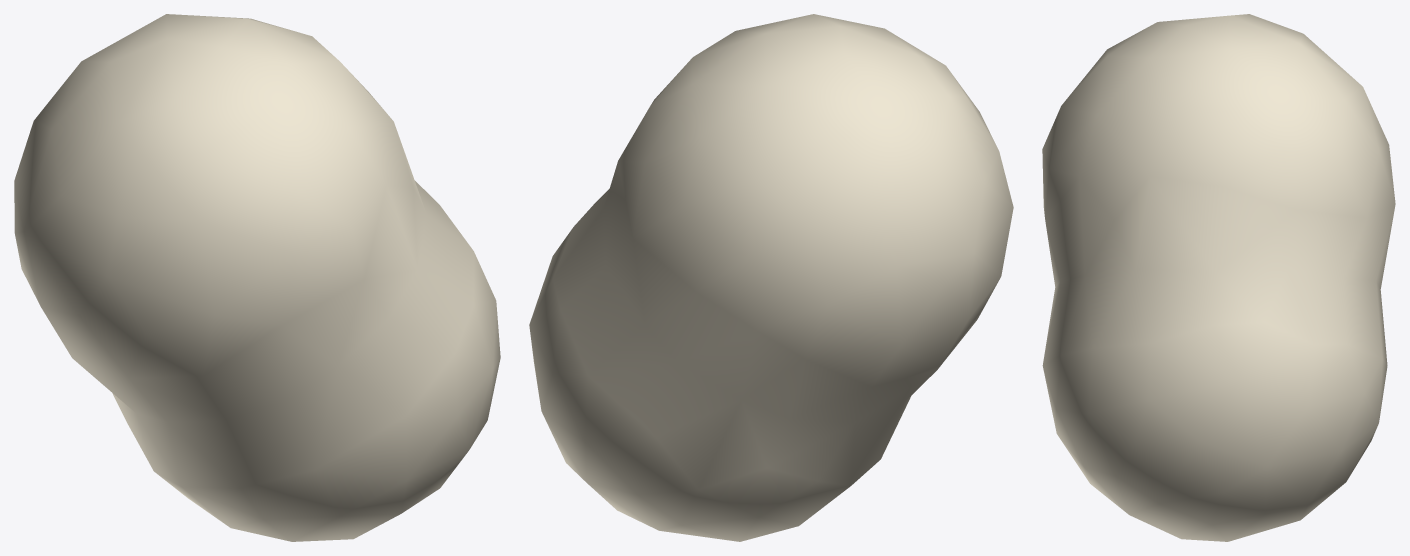
File: caudal_8.glb
3 renders of one model, left to right at view 1: azimuth 30°, elevation 25°; view 2: azimuth 150°, elevation 25°; view 3: azimuth 270°, elevation 25°, orthographic. The views are drawn at different scales.
Visible parts, largest first — view 1: geometry_0; view 2: geometry_0; view 3: geometry_0.
Part boxes in pixels (left/top/right/bottom): geometry_0: left=14, top=14, right=500, bottom=541; geometry_0: left=529, top=14, right=1013, bottom=541; geometry_0: left=1042, top=14, right=1395, bottom=541.
Size of the model in its own units: 0.0445 by 0.0501 by 0.0352.
